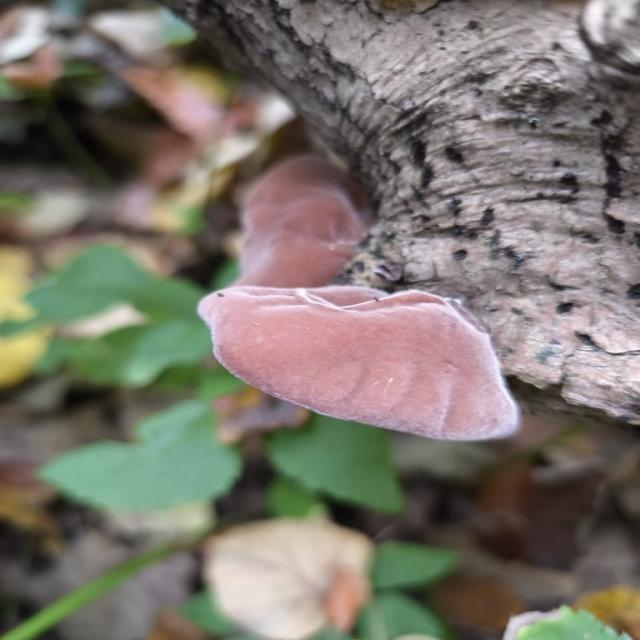Matang: (186, 279, 532, 450), (204, 156, 381, 298)
